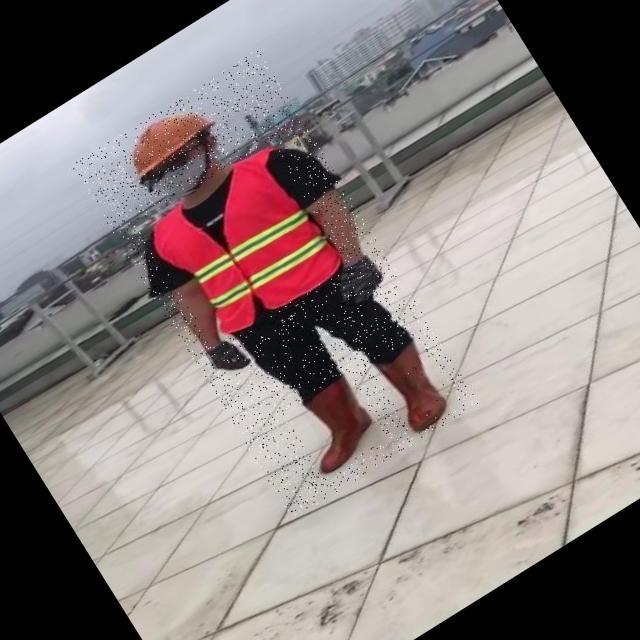hard_hat: (106, 90, 221, 184)
safety_vest: (137, 141, 347, 348)
vehicle: (71, 48, 479, 518)
work_boots: (282, 371, 387, 477), (368, 334, 461, 435)
